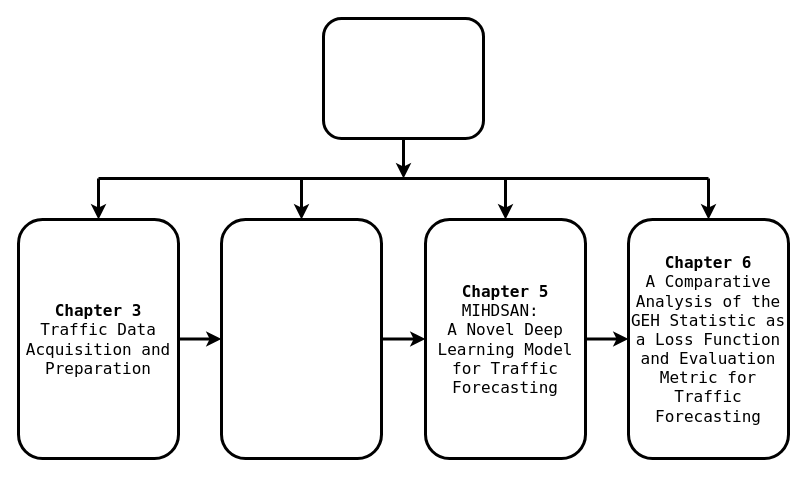
The diagram is 807 pixels wide and 477 high, and some of its shapes have lost their labels. The shapes that lost their labels are listed below. From the top down, each one's box as (x1, y1, x2, y2) in pixels, then its label:
(322, 16, 484, 140): Chapter 2 Literature Review
(220, 218, 382, 460): Chapter 4 Problem Formulation and Gramian Angular Field Transformations
